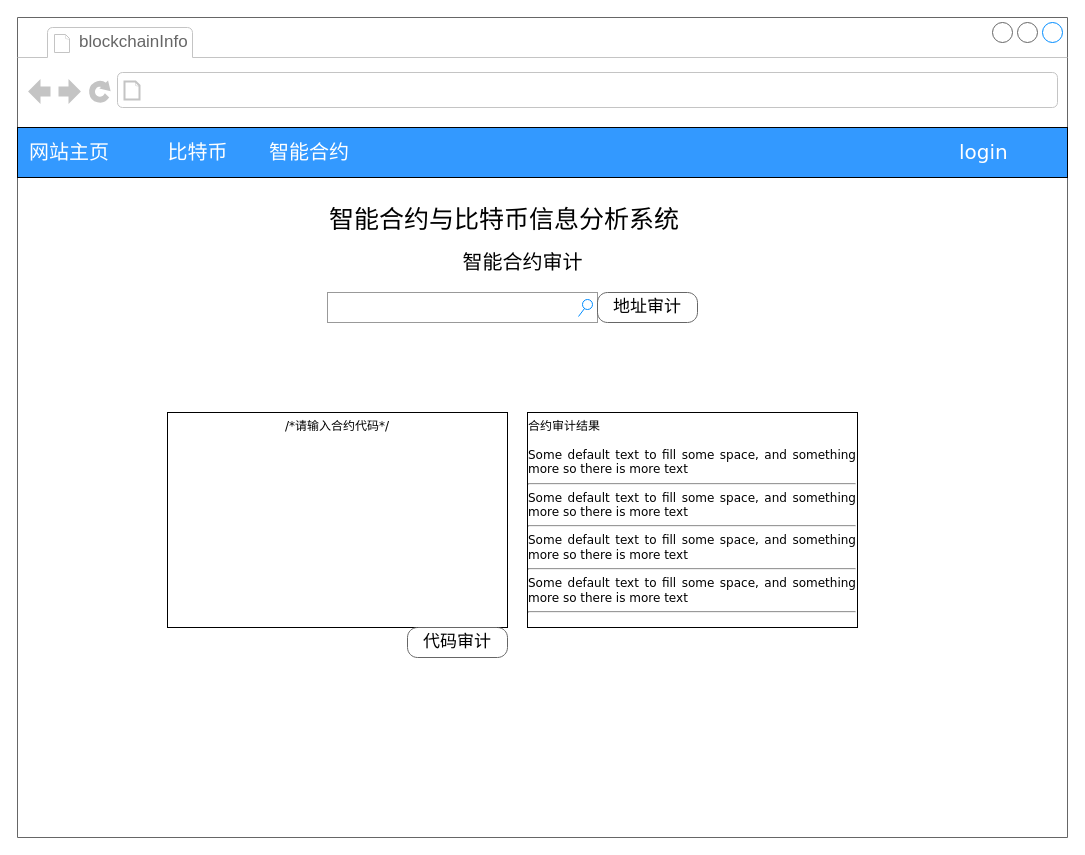
The diagram is 1085 pixels wide and 855 high, and some of its shapes have lost their labels. The shapes that lost their labels are listed below. From the top down, each one's centre as x and y in pixels, then its label:
At pixel 272 90: "https://www.index.com".
At pixel 462 307: "合约地址".
